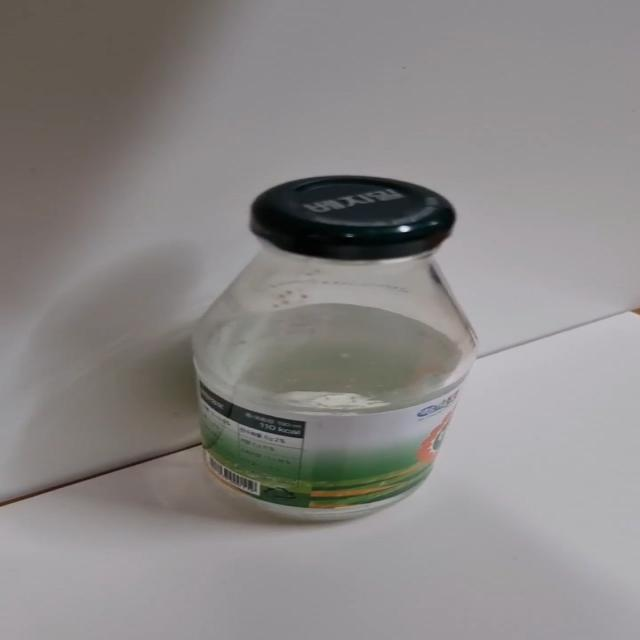Glass: (182, 173, 482, 523)
